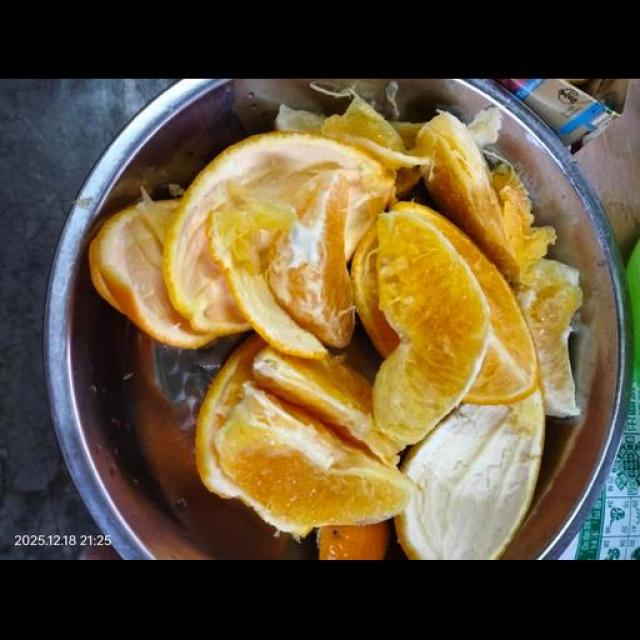organic: (55, 69, 634, 611), (610, 240, 639, 494), (627, 242, 639, 379), (609, 508, 626, 527), (605, 548, 621, 559)
